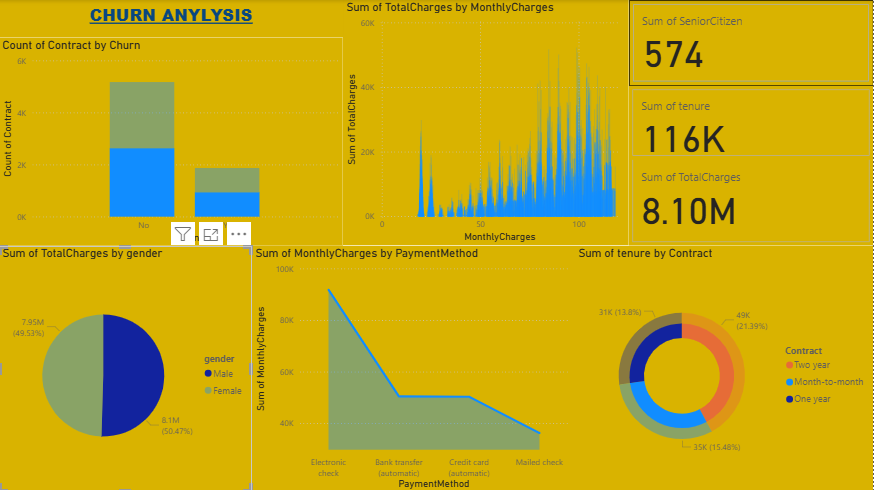

The dashboard page shown, as its layout file describes it:
{"tool":"powerbi","page":{"name":"Page 1","canvas":[1280,720],"ordinal":0},"visuals":[{"type":"lineStackedColumnComboChart","fields":{"Category":["WA_Fn-UseC_-Telco-Customer-Churn.Churn"],"Y":["CountNonNull(WA_Fn-UseC_-Telco-Customer-Churn.Contract)"]},"box":[0,55.6,503.4,304.4],"z":0},{"type":"pieChart","fields":{"Y":["Sum(WA_Fn-UseC_-Telco-Customer-Churn.TotalCharges)"],"Category":["WA_Fn-UseC_-Telco-Customer-Churn.gender"]},"box":[0,360,370.2,360],"z":1000},{"type":"cardVisual","fields":{"Data":["Sum(WA_Fn-UseC_-Telco-Customer-Churn.TotalCharges)"]},"box":[922.2,225.1,357.8,134.4],"z":2000},{"type":"stackedAreaChart","fields":{"Category":["WA_Fn-UseC_-Telco-Customer-Churn.PaymentMethod"],"Y":["Sum(WA_Fn-UseC_-Telco-Customer-Churn.MonthlyCharges)"]},"box":[369.6,359.5,473.7,361.2],"z":3000},{"type":"ribbonChart","fields":{"Category":["WA_Fn-UseC_-Telco-Customer-Churn.MonthlyCharges"],"Y":["Sum(WA_Fn-UseC_-Telco-Customer-Churn.TotalCharges)"]},"box":[503.9,0,418.3,359.5],"z":4000},{"type":"donutChart","fields":{"Y":["Sum(WA_Fn-UseC_-Telco-Customer-Churn.tenure)"],"Category":["WA_Fn-UseC_-Telco-Customer-Churn.Contract"]},"box":[843.3,359.5,436.7,361.2],"z":5000},{"type":"textbox","box":[0,0,503.9,55.4],"z":5001},{"type":"cardVisual","fields":{"Data":["Sum(WA_Fn-UseC_-Telco-Customer-Churn.SeniorCitizen)"]},"box":[922.2,0,357.8,126],"z":5002},{"type":"cardVisual","fields":{"Data":["Sum(WA_Fn-UseC_-Telco-Customer-Churn.tenure)"]},"box":[922.2,126,357.8,107.5],"z":5003}]}

Visuals, with their boxes in screenshot pixels (x1, y1, x2, y2), scaled from the page's 1280x720 canvas onto the 874x490 screenshot:
lineStackedColumnComboChart - WA_Fn-UseC_-Telco-Customer-Churn.Churn x CountNonNull(WA_Fn-UseC_-Telco-Customer-Churn.Contract): bbox=(0, 38, 344, 245)
pieChart - Sum(WA_Fn-UseC_-Telco-Customer-Churn.TotalCharges) x WA_Fn-UseC_-Telco-Customer-Churn.gender: bbox=(0, 245, 253, 489)
cardVisual - Sum(WA_Fn-UseC_-Telco-Customer-Churn.TotalCharges): bbox=(630, 153, 873, 245)
stackedAreaChart - WA_Fn-UseC_-Telco-Customer-Churn.PaymentMethod x Sum(WA_Fn-UseC_-Telco-Customer-Churn.MonthlyCharges): bbox=(252, 245, 576, 489)
ribbonChart - WA_Fn-UseC_-Telco-Customer-Churn.MonthlyCharges x Sum(WA_Fn-UseC_-Telco-Customer-Churn.TotalCharges): bbox=(344, 0, 630, 245)
donutChart - Sum(WA_Fn-UseC_-Telco-Customer-Churn.tenure) x WA_Fn-UseC_-Telco-Customer-Churn.Contract: bbox=(576, 245, 873, 489)
textbox: bbox=(0, 0, 344, 38)
cardVisual - Sum(WA_Fn-UseC_-Telco-Customer-Churn.SeniorCitizen): bbox=(630, 0, 873, 86)
cardVisual - Sum(WA_Fn-UseC_-Telco-Customer-Churn.tenure): bbox=(630, 86, 873, 159)
